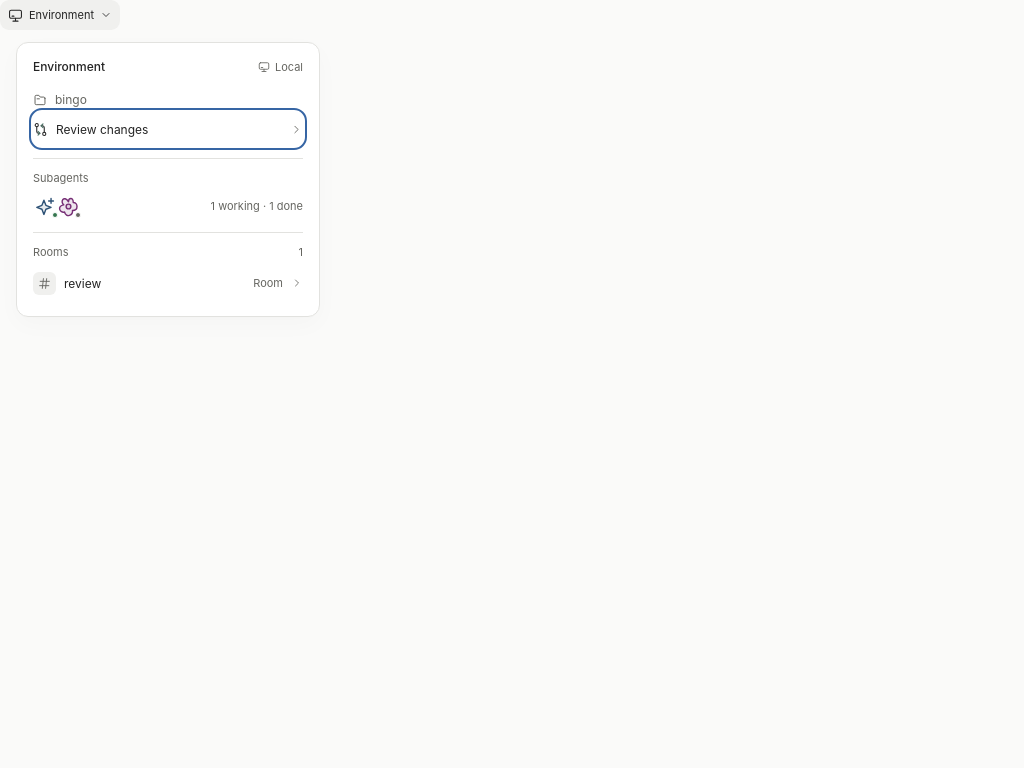
Test case: environment collaboration surface › keeps the live collaborator list accessible by keyboard
Focus the button named "Collaborators". click: point(57, 206)
box: top-left (33, 192), bottom-right (81, 220)
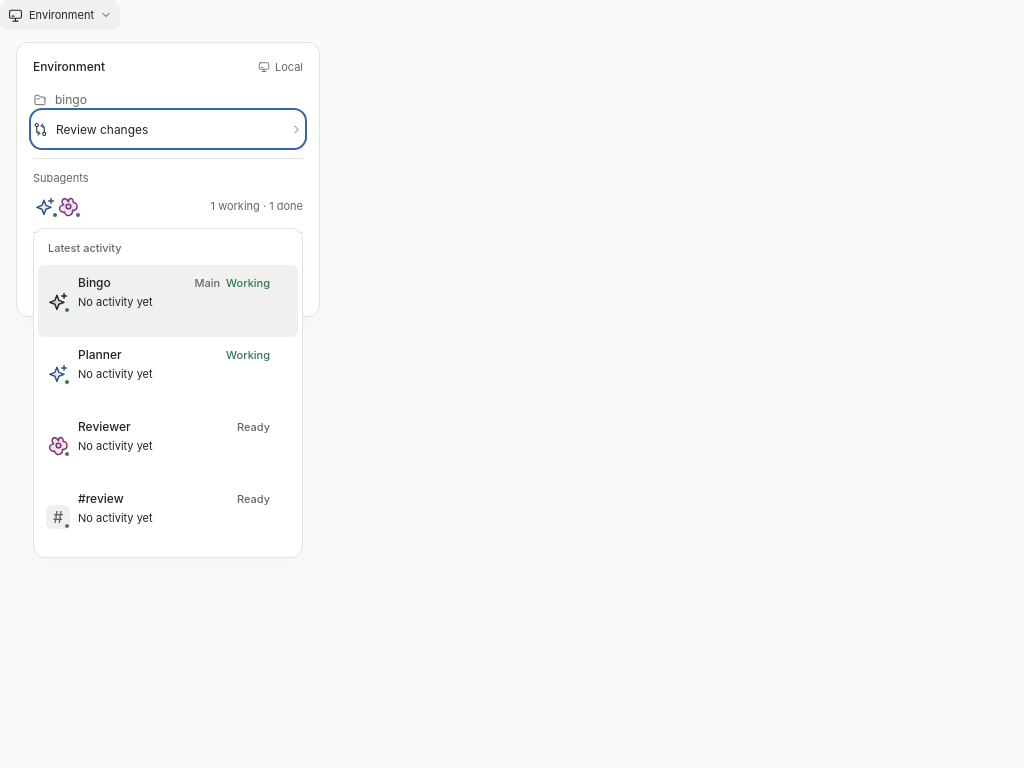
expect the navigation bar named "Collaborators" is shown: met, box top-left (33, 228), bottom-right (303, 558)
expect the button with aria-label "Reviewer · Agent" is shown: met, box top-left (38, 409), bottom-right (298, 481)
